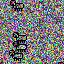sheep: (10, 0, 24, 11), (13, 32, 27, 43), (13, 41, 27, 52), (9, 50, 23, 61)
